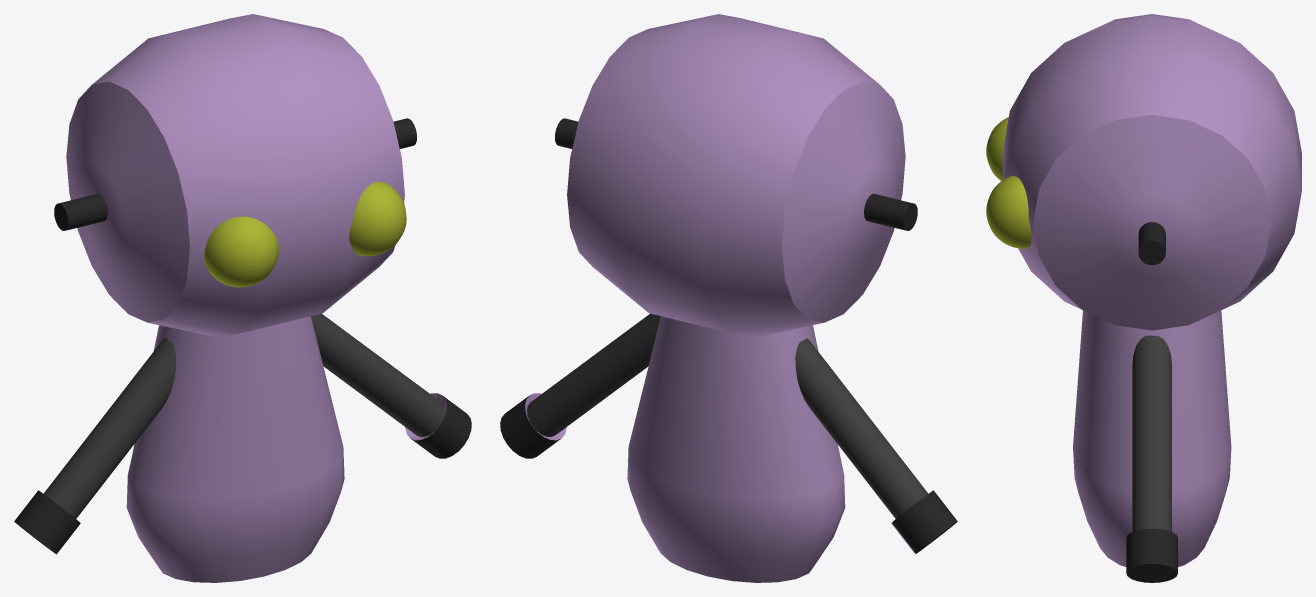
Rendered from purplerobot.fbx.
3 renders of one model, left to right at view 1: azimuth 30°, elevation 25°; view 2: azimuth 150°, elevation 25°; view 3: azimuth 270°, elevation 25°, orthographic. The views are drawn at different scales.
Parts seen in each view (by area): view 1: pCylinder1, pCylinder3, pCylinder4, pCylinder5, pSphere1, pSphere2, pCylinder2; view 2: pCylinder1, pCylinder3, pCylinder4, pCylinder5, pCylinder2; view 3: pCylinder1, pCylinder3, pCylinder5, pSphere2, pCylinder2, pSphere1.
Boxes of the visible parts, x1=… form: pCylinder1: x1=66, y1=14, x2=404, y2=337; pCylinder3: x1=126, y1=316, x2=344, y2=582; pCylinder4: x1=14, y1=338, x2=175, y2=554; pCylinder5: x1=311, y1=313, x2=471, y2=458; pSphere1: x1=204, y1=216, x2=278, y2=287; pSphere2: x1=349, y1=181, x2=406, y2=256; pCylinder2: x1=54, y1=118, x2=416, y2=230; pCylinder1: x1=567, y1=14, x2=905, y2=337; pCylinder3: x1=627, y1=316, x2=845, y2=582; pCylinder4: x1=795, y1=338, x2=957, y2=554; pCylinder5: x1=500, y1=313, x2=660, y2=458; pCylinder2: x1=555, y1=118, x2=917, y2=230; pCylinder1: x1=1002, y1=14, x2=1301, y2=330; pCylinder3: x1=1073, y1=310, x2=1231, y2=566; pCylinder5: x1=1126, y1=335, x2=1177, y2=582; pSphere2: x1=986, y1=175, x2=1031, y2=248; pCylinder2: x1=1138, y1=222, x2=1165, y2=265; pSphere1: x1=986, y1=117, x2=1008, y2=180.
Bounding box in the file's own units: 3.33 × 3.79 × 2.11.
